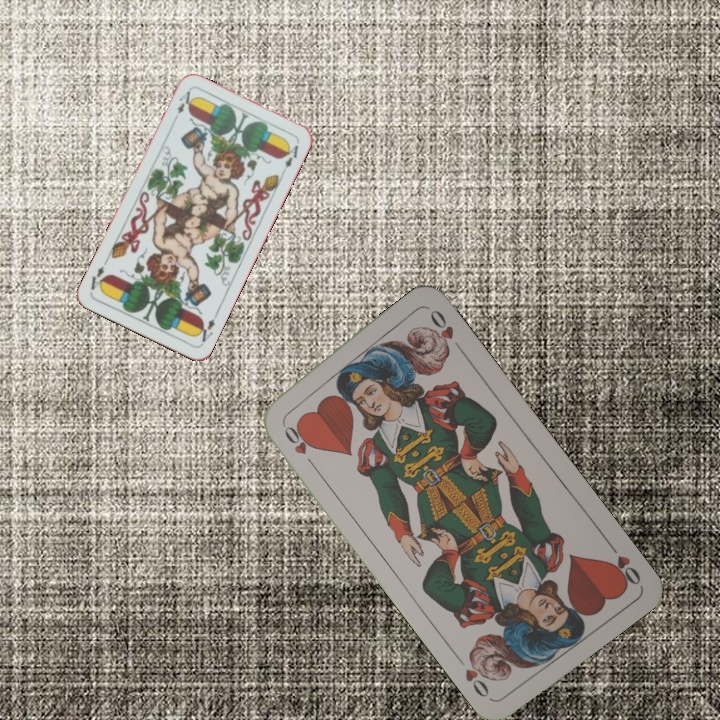EA: (169, 86, 196, 124), (192, 309, 220, 345)
HO: (602, 536, 644, 590), (277, 418, 318, 470)
